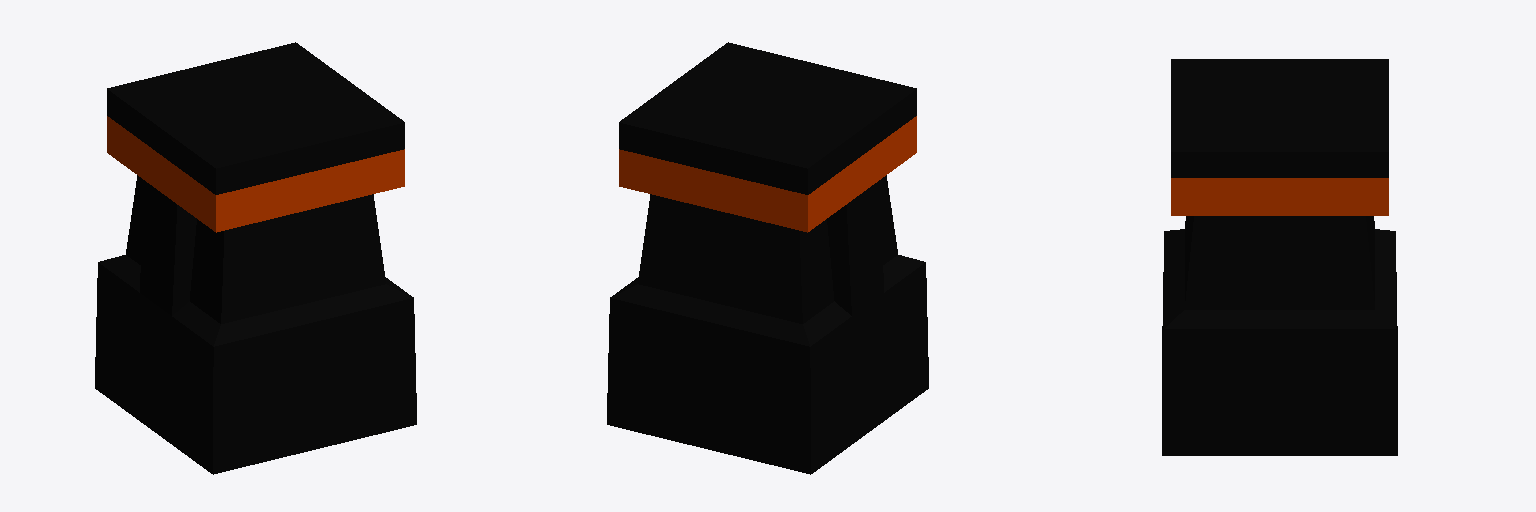
Rendered from hokuyo_utm_30lx.obj.
3 renders of one model, left to right at view 1: azimuth 30°, elevation 25°; view 2: azimuth 150°, elevation 25°; view 3: azimuth 270°, elevation 25°, orthographic.
Visible parts, largest first — view 1: Plane; view 2: Plane; view 3: Plane.
Part boxes in pixels (bbox=[...]): Plane: bbox=[95, 42, 416, 474]; Plane: bbox=[607, 42, 928, 474]; Plane: bbox=[1162, 59, 1397, 455].
Bounding box in the file's own units: 0.0618 × 0.087 × 0.0618.